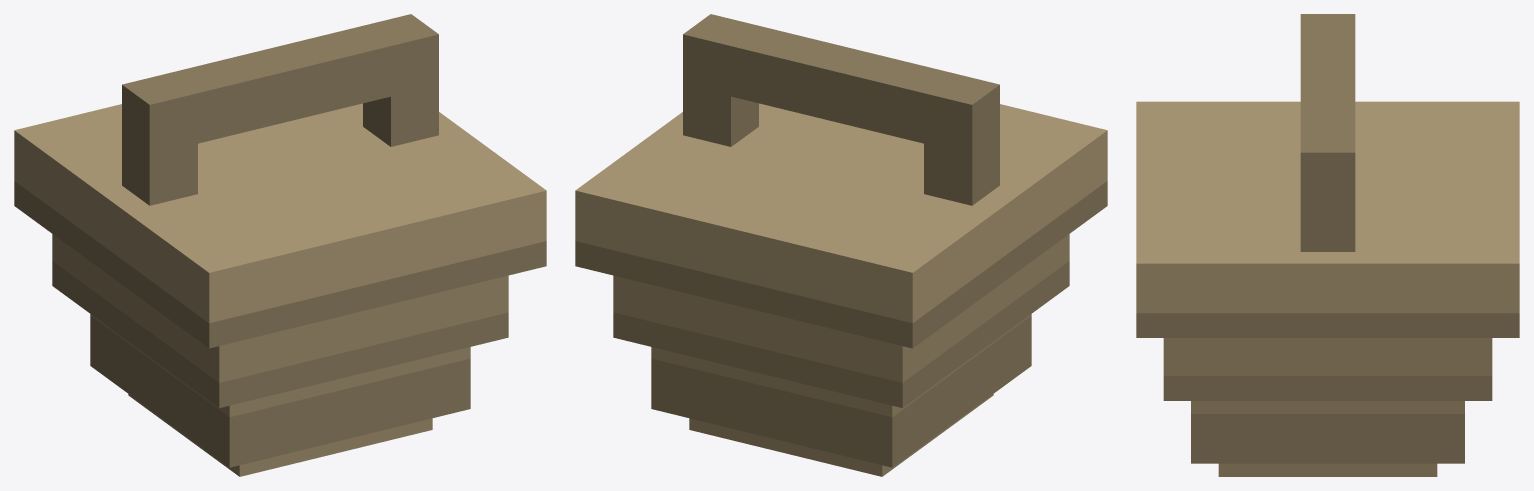
Rendered from cesta_muestras_producto_01.glb.
3 renders of one model, left to right at view 1: azimuth 30°, elevation 25°; view 2: azimuth 150°, elevation 25°; view 3: azimuth 270°, elevation 25°, orthographic.
Parts seen in each view (by area): view 1: cesta_muestras_producto; view 2: cesta_muestras_producto; view 3: cesta_muestras_producto.
Boxes of the visible parts, bbox=[...] form: cesta_muestras_producto: bbox=[14, 14, 546, 476]; cesta_muestras_producto: bbox=[575, 14, 1107, 476]; cesta_muestras_producto: bbox=[1136, 14, 1519, 476].
Bounding box in the file's own units: 1 × 1 × 1.
